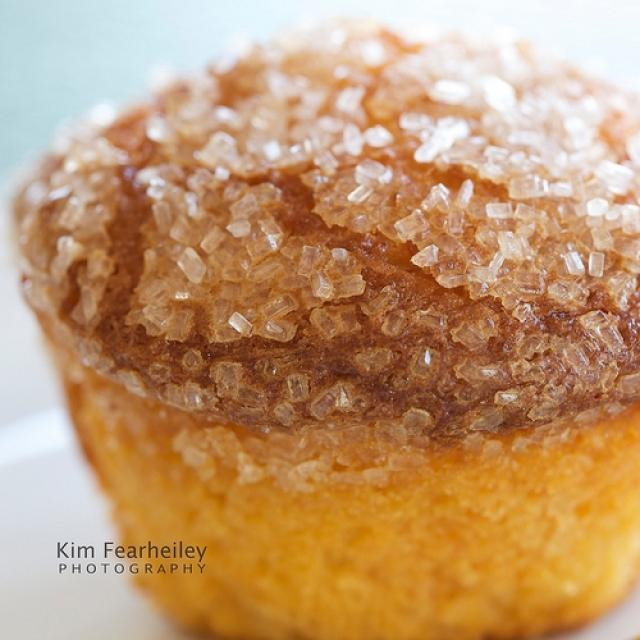炸货点心: (4, 13, 634, 631)
面包点心: (4, 13, 634, 631)
